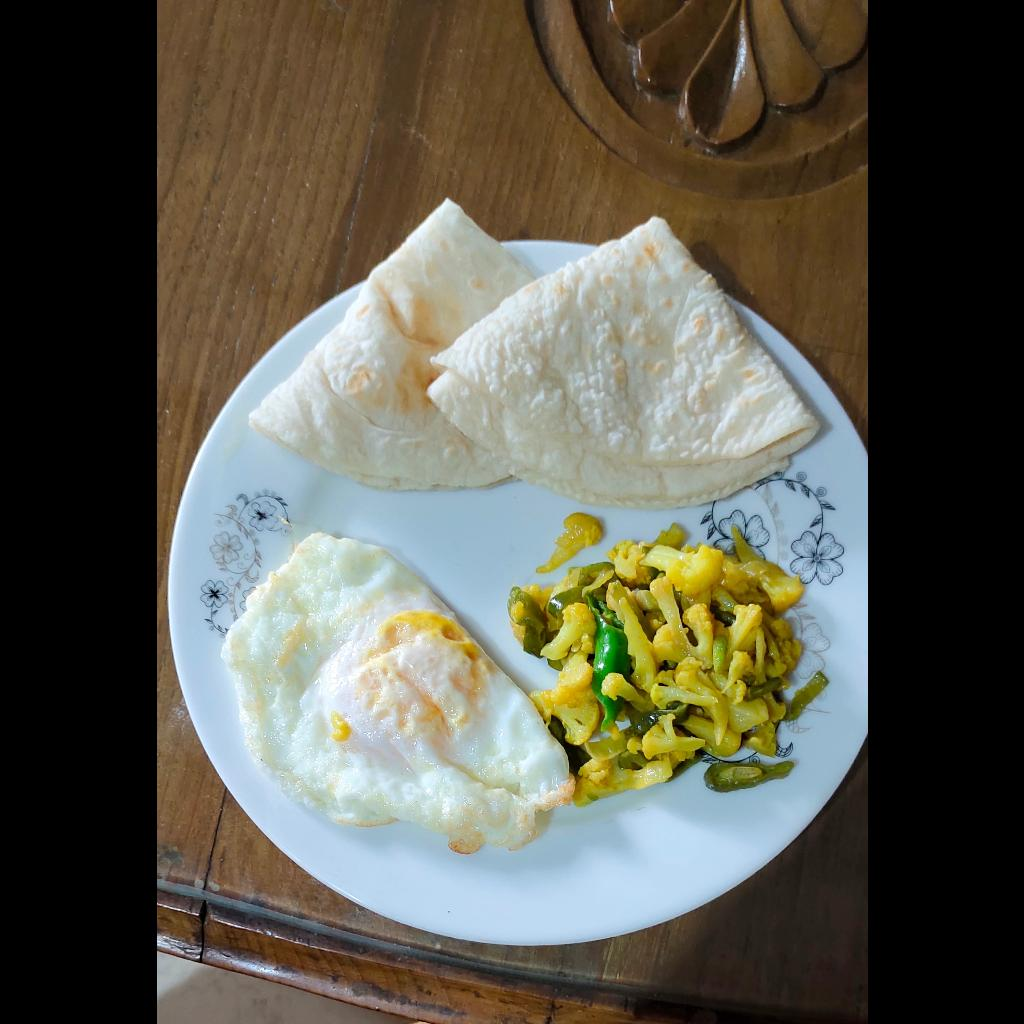cauliflower: (499, 514, 813, 812)
egg-poached: (218, 533, 577, 866)
ruti: (252, 189, 830, 508)
